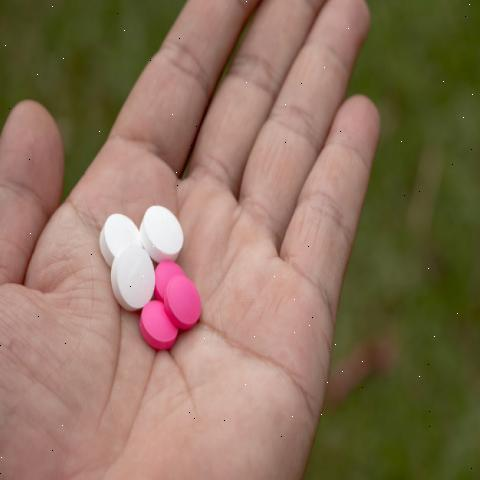Pill: (139, 188, 190, 262), (92, 197, 136, 269), (111, 246, 151, 316)
